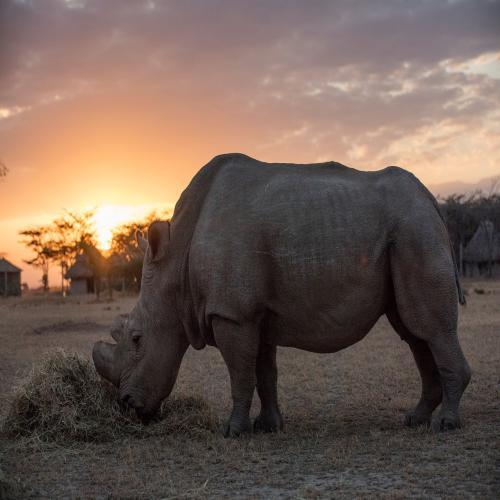rhino-endangered: (90, 149, 472, 437)
